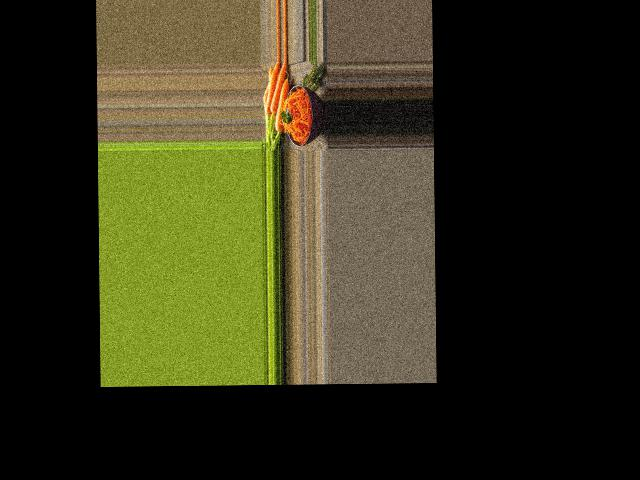carrot: (274, 74, 289, 135)
